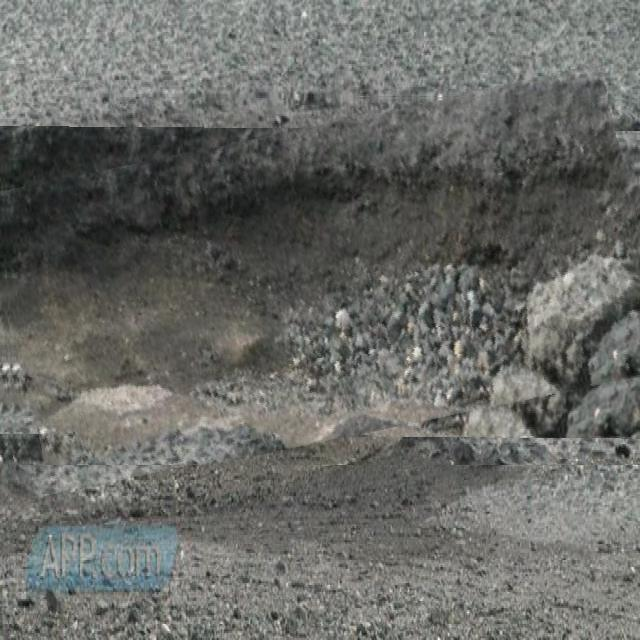Pothole: (0, 94, 640, 465)
